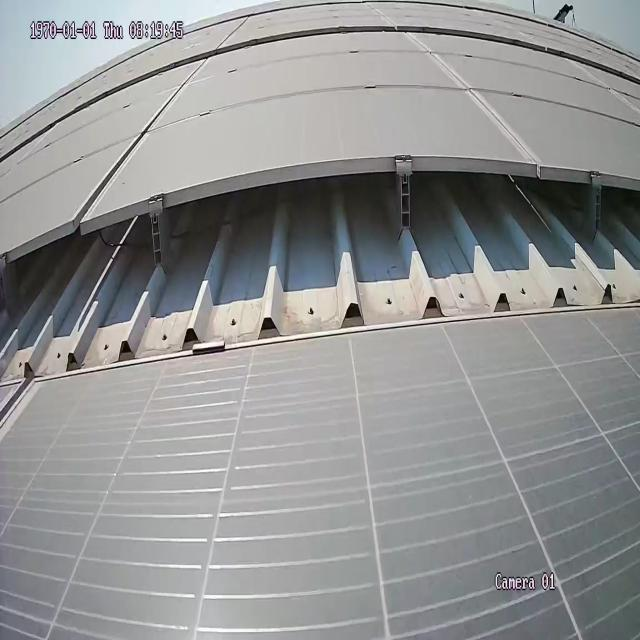interior panel: (71, 65, 207, 203), (407, 31, 544, 154), (0, 388, 35, 435)
outher panel: (0, 152, 639, 391)
